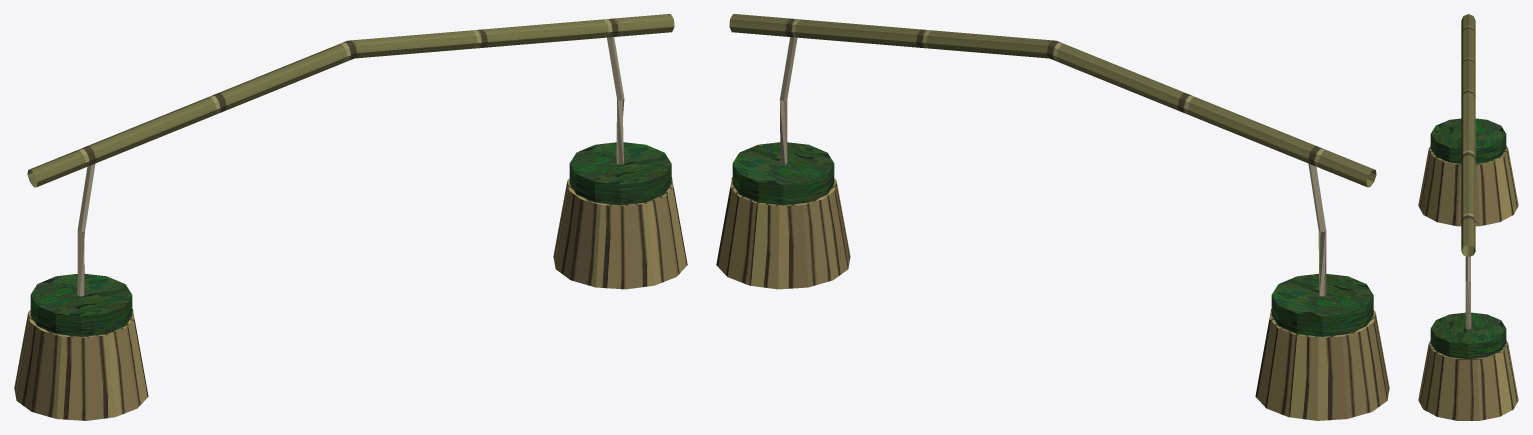
Rendered from cho-ma-ganh-hang-bo-lai.glb.
The picture shows the model from 3 angles, left to right: view 1: azimuth 30°, elevation 25°; view 2: azimuth 150°, elevation 25°; view 3: azimuth 270°, elevation 25°; orthographic projection. The views are drawn at different scales.
Visible parts, largest first — view 1: cho-ma-ganh-hang-bo-lai; view 2: cho-ma-ganh-hang-bo-lai; view 3: cho-ma-ganh-hang-bo-lai.
Boxes of the visible parts, x1,y1,x2,y2 form: cho-ma-ganh-hang-bo-lai: (14, 14, 687, 420); cho-ma-ganh-hang-bo-lai: (716, 14, 1389, 420); cho-ma-ganh-hang-bo-lai: (1418, 14, 1518, 420).
Bounding box in the file's own units: 2.67 × 1.11 × 0.48.
Materials: 4 (3 with a texture image).
